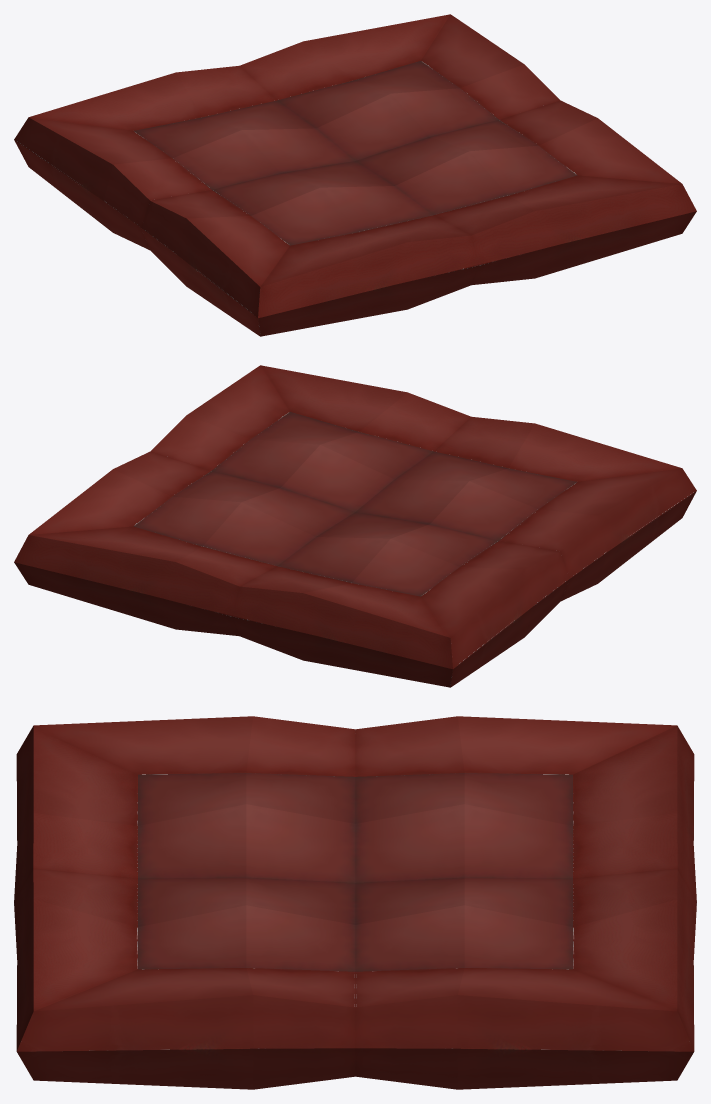
File: NNJ0810013.fbx
3 views of the same model, one above another, from view 1: azimuth 30°, elevation 25°; view 2: azimuth 150°, elevation 25°; view 3: azimuth 270°, elevation 25° (orthographic). The views are drawn at different scales.
Visible parts, largest first — view 1: smNNJ0810013; view 2: smNNJ0810013; view 3: smNNJ0810013.
Boxes of the visible parts, box(x1,y1,x2,y2) form: smNNJ0810013: box(14, 14, 696, 336); smNNJ0810013: box(14, 365, 696, 687); smNNJ0810013: box(14, 716, 696, 1089).
Bounding box in the file's own units: 143 × 21.7 × 139.
1 material, 1 textured.
